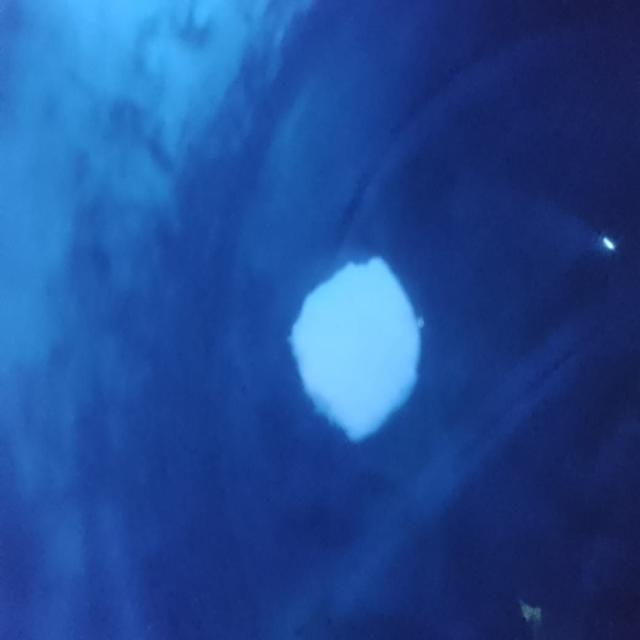thermocoal: (266, 230, 438, 455)
